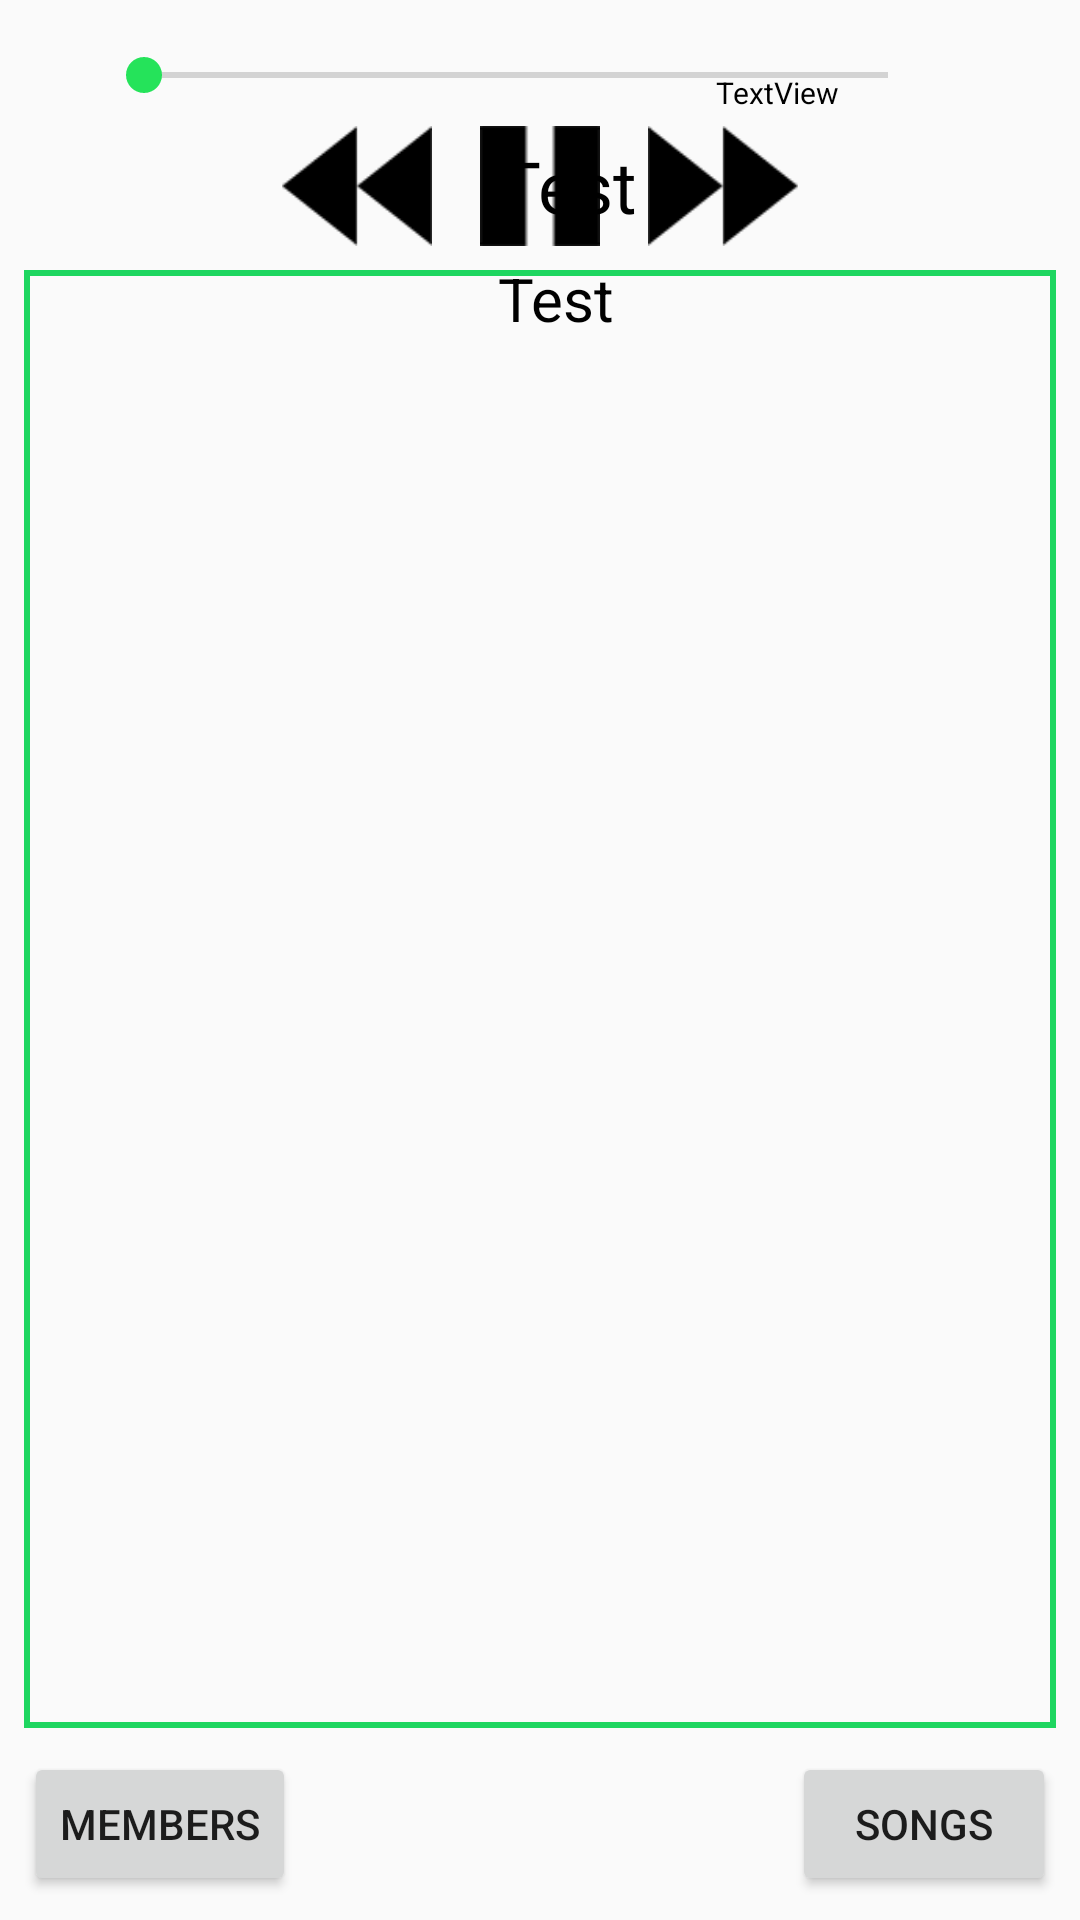

Named icons in this screenshot (1080*1920) and their centers, (x,y):
qhp next: (723,186)
qhp previous: (357,186)
